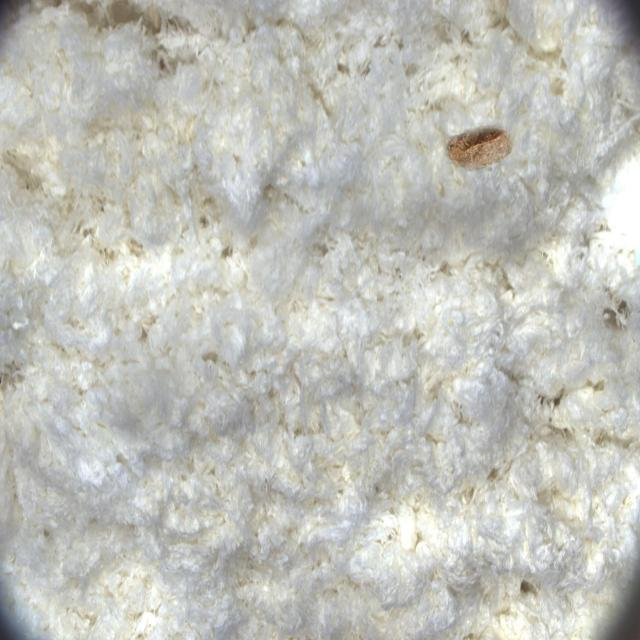dust: (417, 85, 531, 211)
